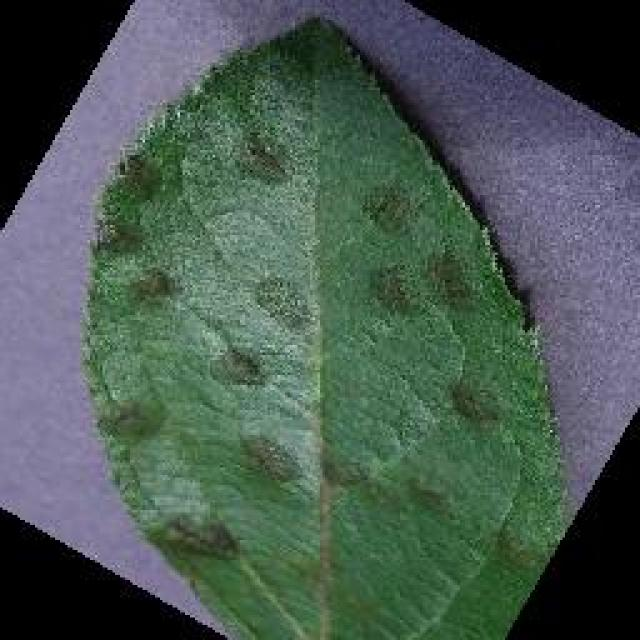apple scab disease: (75, 12, 573, 638)
